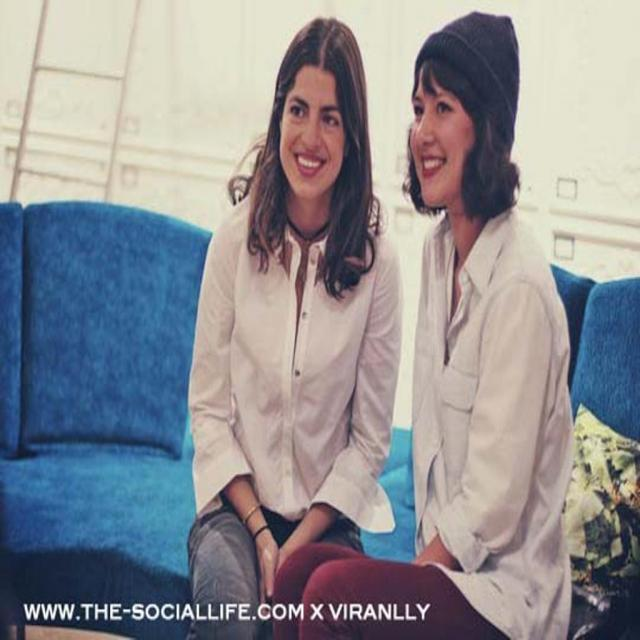nomask: (406, 58, 474, 208), (282, 67, 346, 193)
